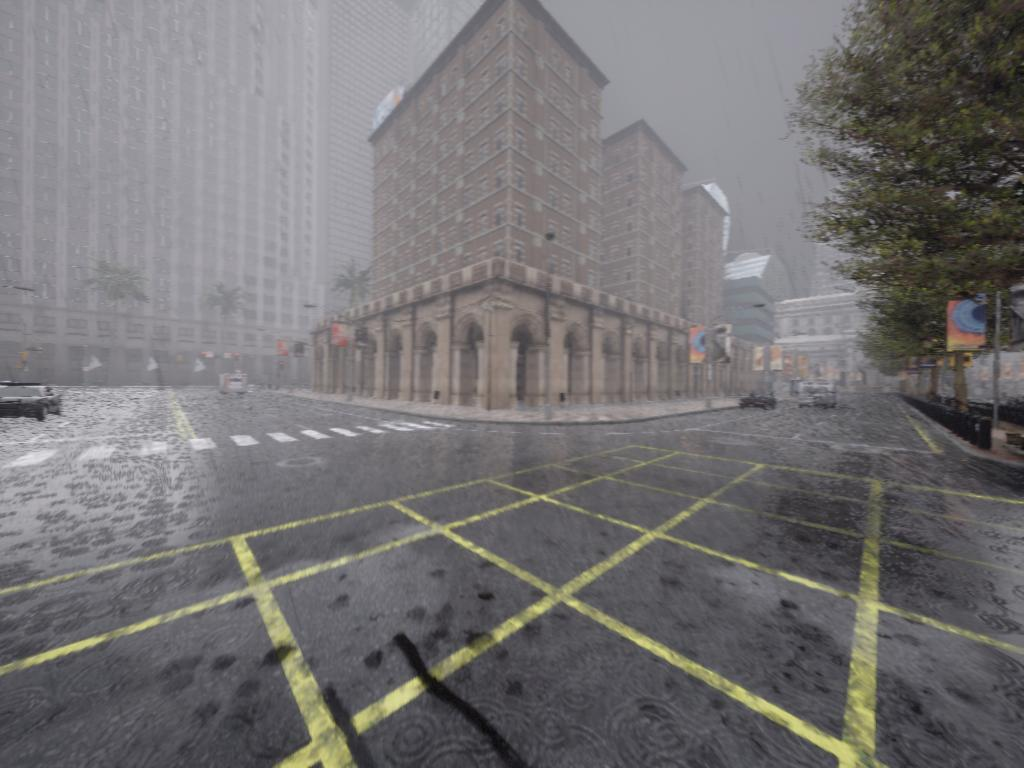traffic_light: (232, 349, 241, 366), (201, 350, 208, 367)
